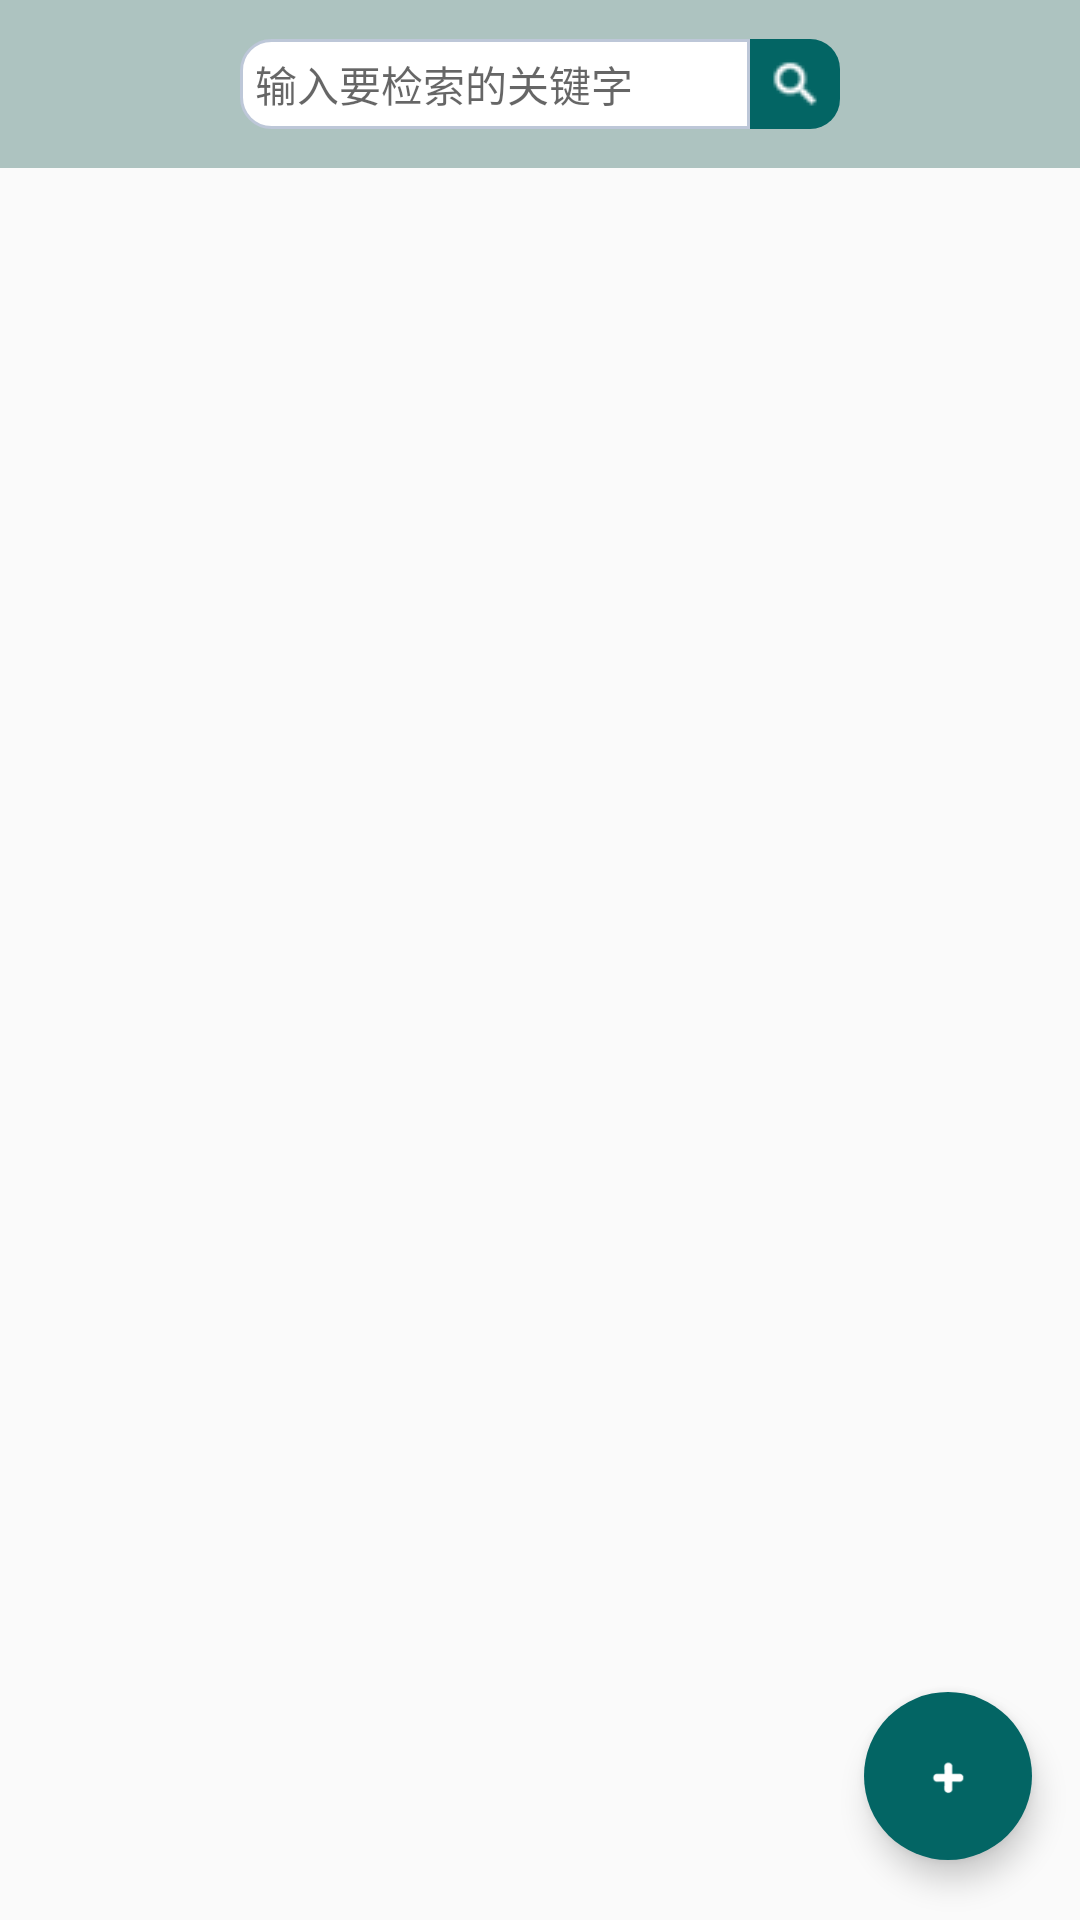

Icon bounding boxes for this 1080x1920 phone screenshot, format {"x1": x1, "y1": y1, "x2": x2, "y2": y2}:
add: {"x1": 864, "y1": 1692, "x2": 1032, "y2": 1860}
seek: {"x1": 750, "y1": 39, "x2": 840, "y2": 129}
